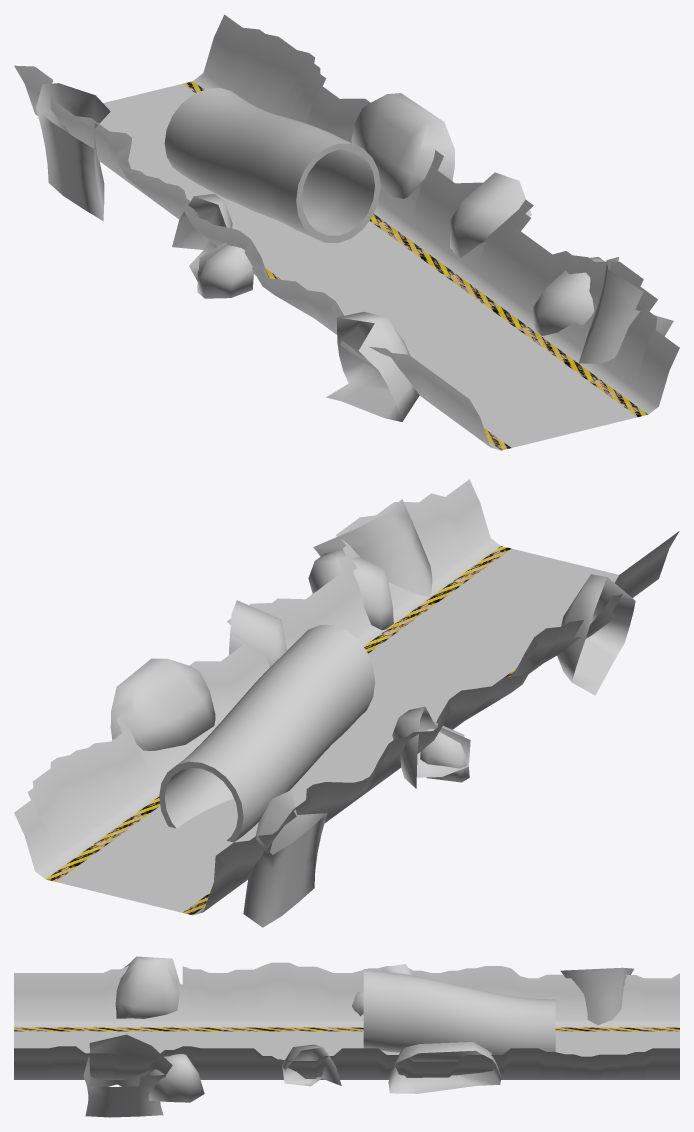
The model's file is pipe_Chunk.fbx.
3 renders of one model, top to bottom at view 1: azimuth 30°, elevation 25°; view 2: azimuth 150°, elevation 25°; view 3: azimuth 270°, elevation 25°, orthographic. The views are drawn at different scales.
Parts seen in each view (by area): view 1: pipe_Chunk; view 2: pipe_Chunk; view 3: pipe_Chunk.
Part boxes in pixels (x1=…): pipe_Chunk: x1=14, y1=14, x2=679, y2=450; pipe_Chunk: x1=14, y1=479, x2=679, y2=927; pipe_Chunk: x1=14, y1=956, x2=679, y2=1117.
Size of the model in its own units: 55.13 by 26.25 by 150.
